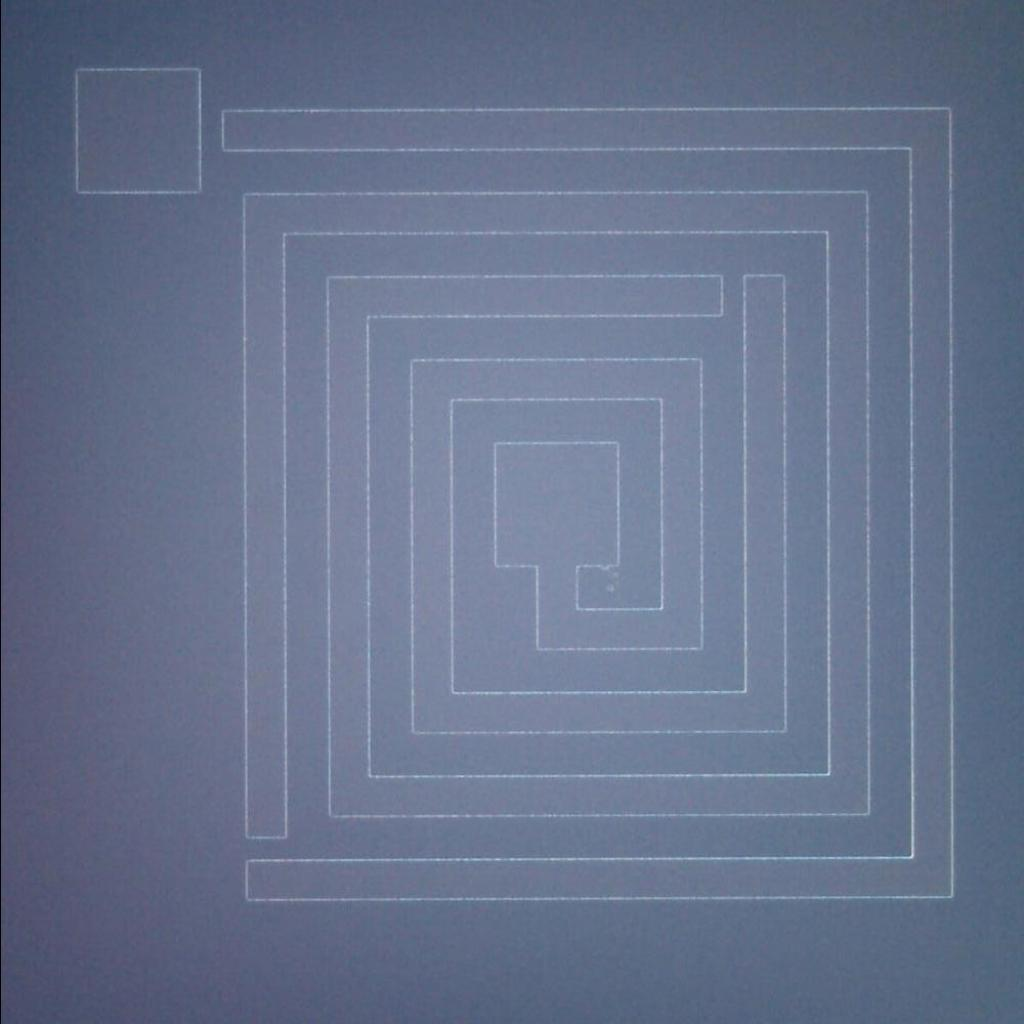short circuit: (227, 813, 294, 885), (179, 94, 244, 167), (702, 267, 761, 326)
